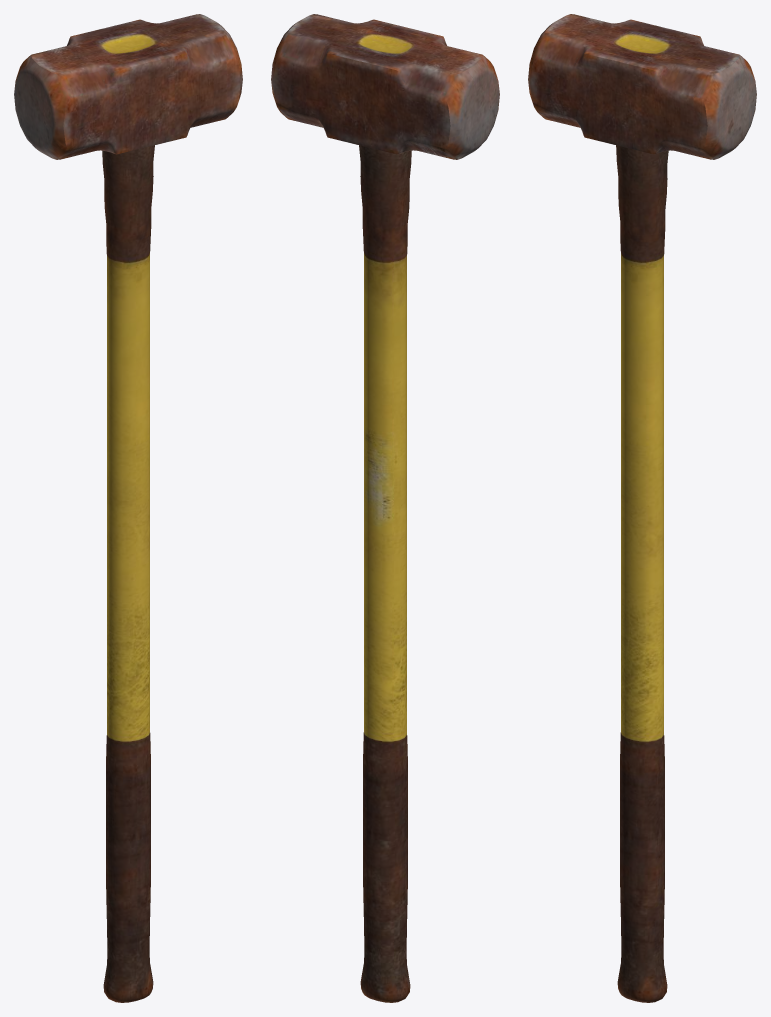
The model's file is sledgehammer_01.glb.
3 renders of one model, left to right at view 1: azimuth 30°, elevation 25°; view 2: azimuth 150°, elevation 25°; view 3: azimuth 330°, elevation 25°, orthographic.
Parts seen in each view (by area): view 1: sledgehammer_01; view 2: sledgehammer_01; view 3: sledgehammer_01.
Boxes of the visible parts, x1,y1,x2,y2 form: sledgehammer_01: [14, 14, 242, 1002]; sledgehammer_01: [271, 14, 499, 1002]; sledgehammer_01: [528, 14, 756, 1002].
Size of what is drawn, in the model's own units: 0.2085 by 1.01 by 0.0905.
Materials: 1 (1 with a texture image).
